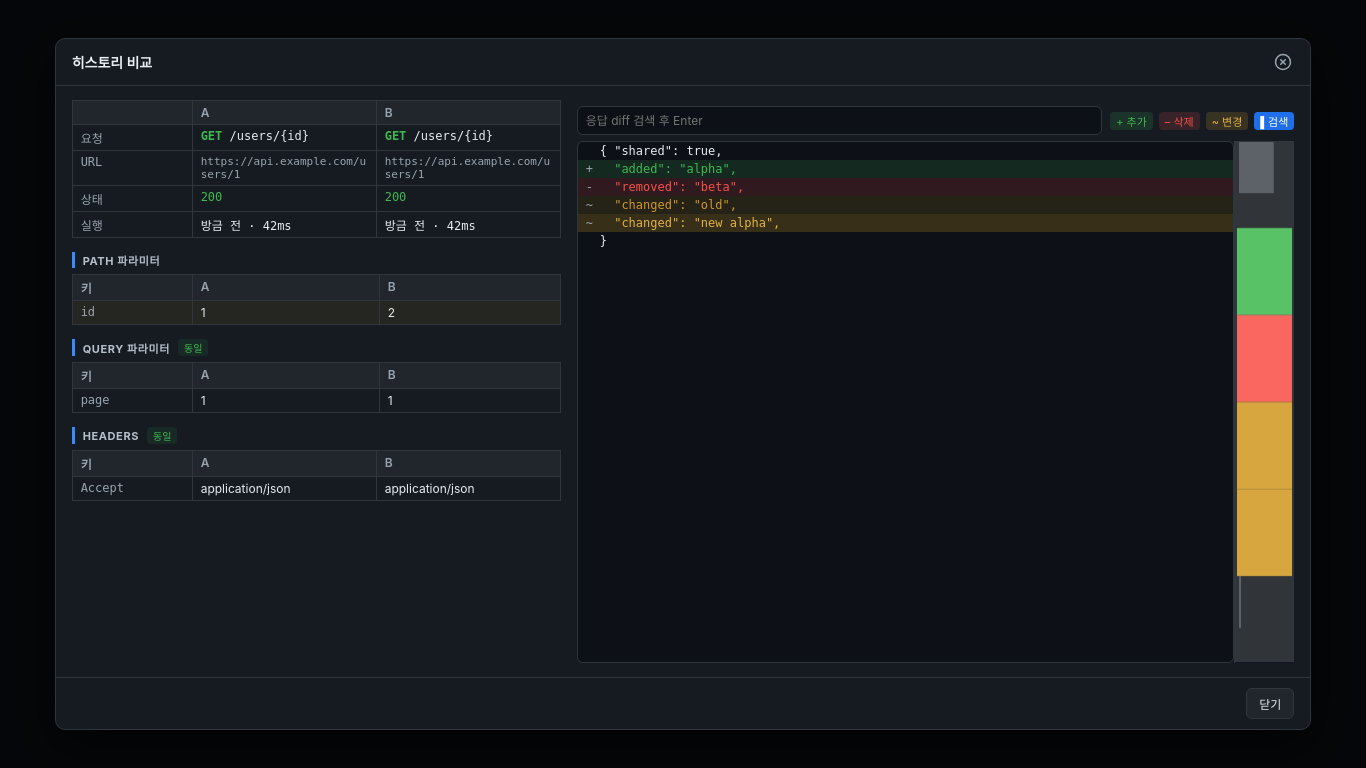
it: CompareModal 2단 레이아웃·미니맵·검색·변경 구분 › 매치가 없으면 '일치 없음'을 표시한다
Step 1. Type "zzzznope" into the field with class "search" → (839, 121), box x1=577 y1=106 x2=1102 y2=135
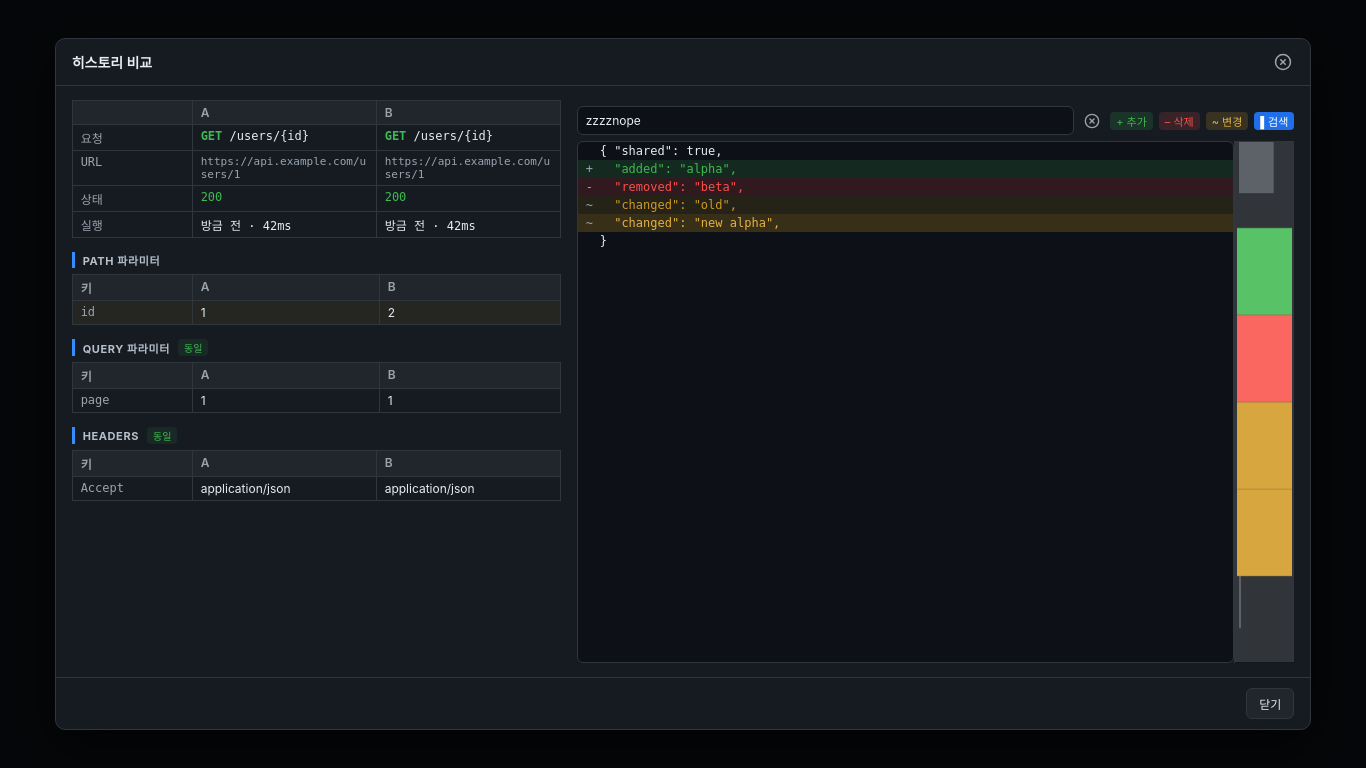
Step 2. Press Enter in the field with class "search", box x1=577 y1=106 x2=1074 y2=135
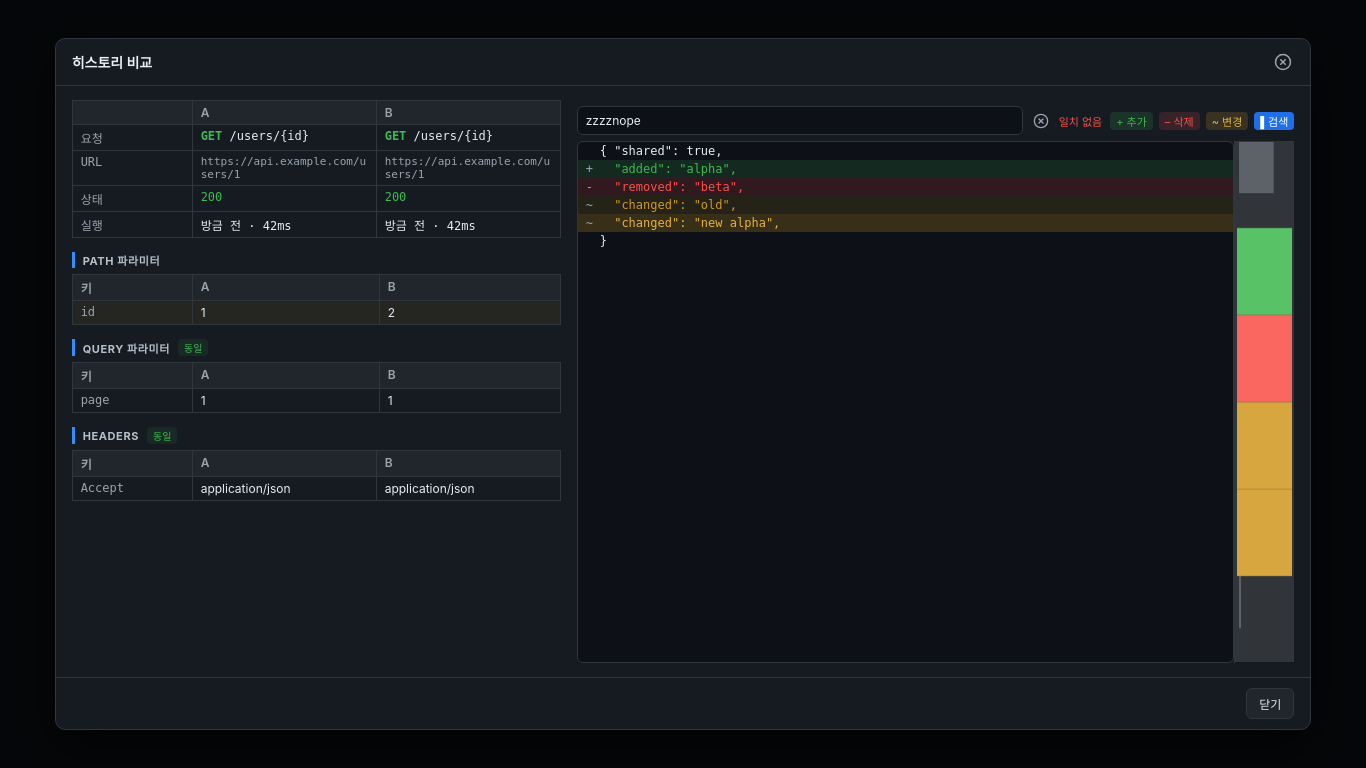
Check: the text "일치 없음" is shown, box x1=1059 y1=113 x2=1102 y2=129
